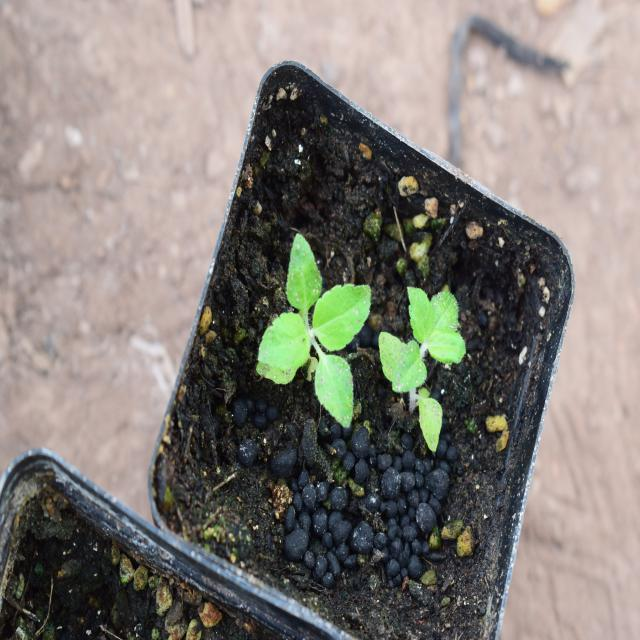billygoat_weed: (254, 227, 374, 428), (382, 260, 460, 461)
